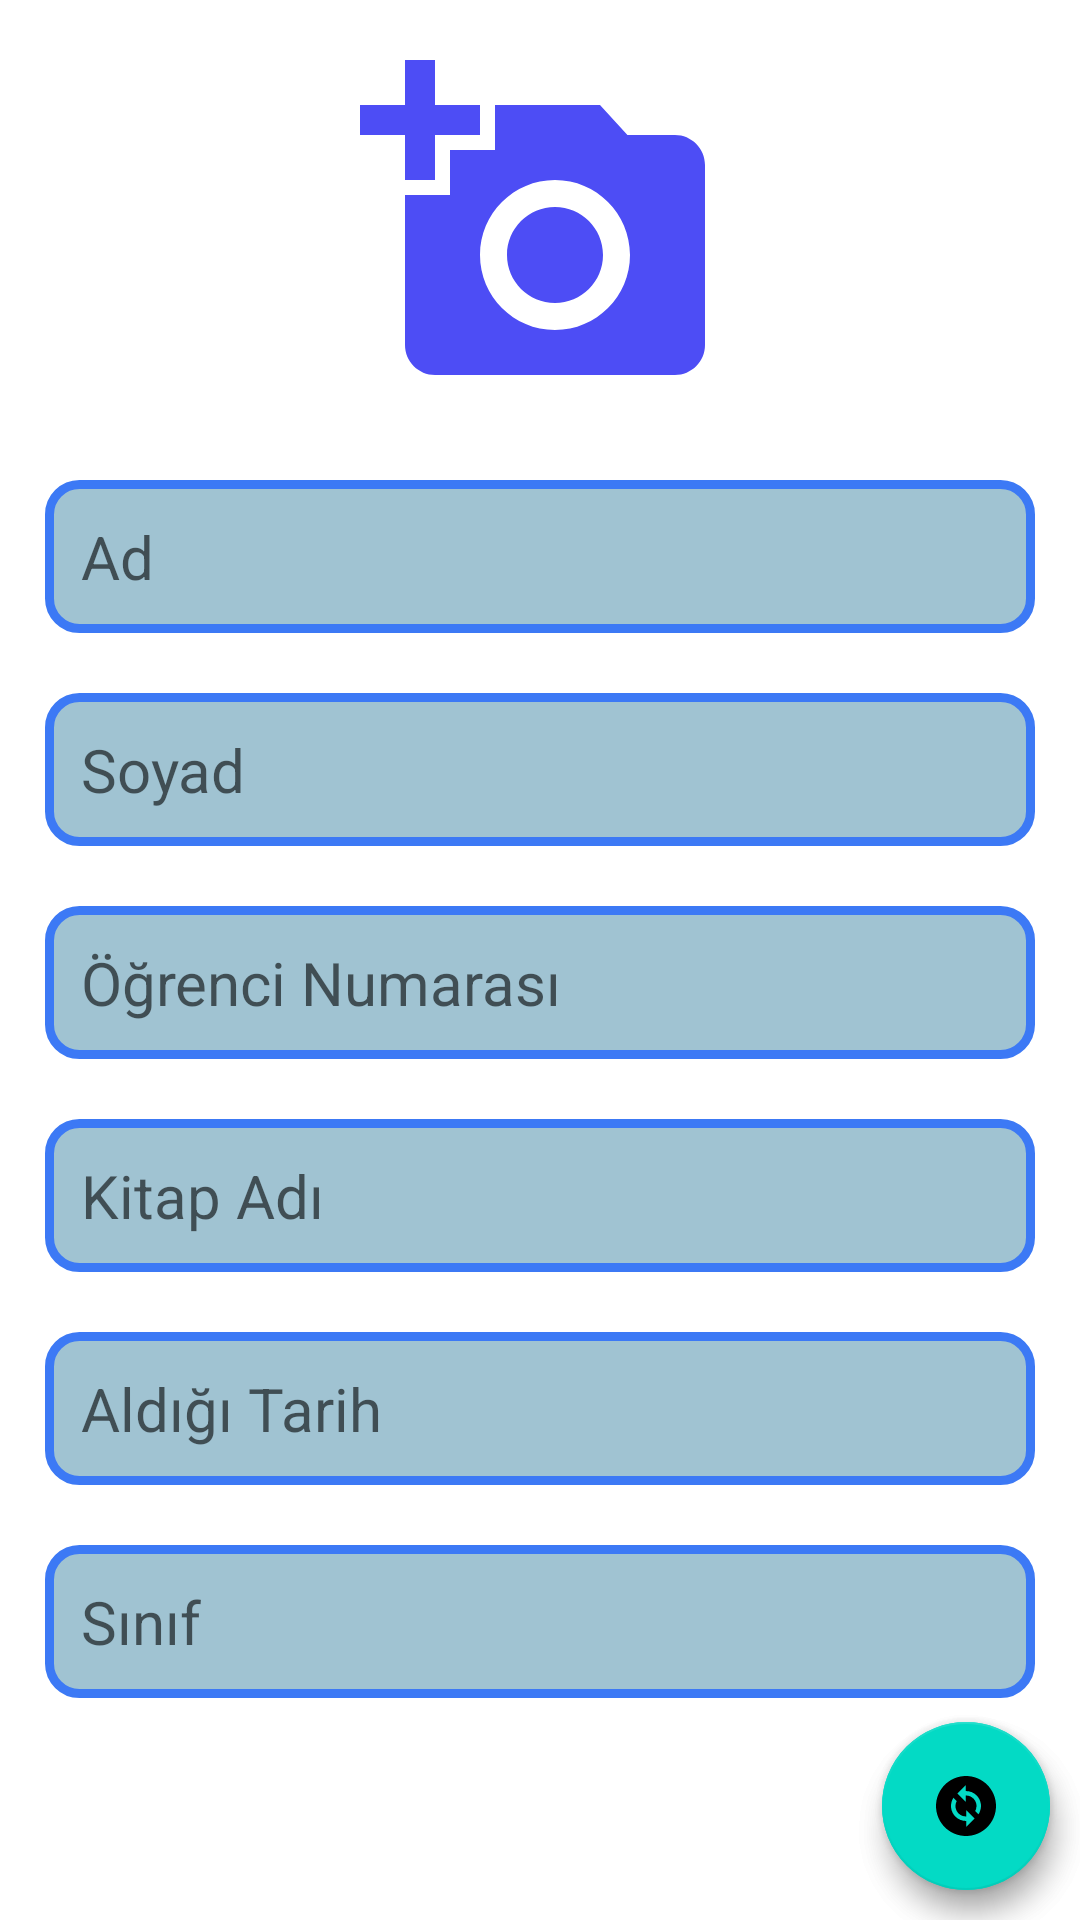

Point at icon controls on the screen. Image size 1080 x 1920, points as (x=x, y=y).
add photo: (x=532, y=217)
